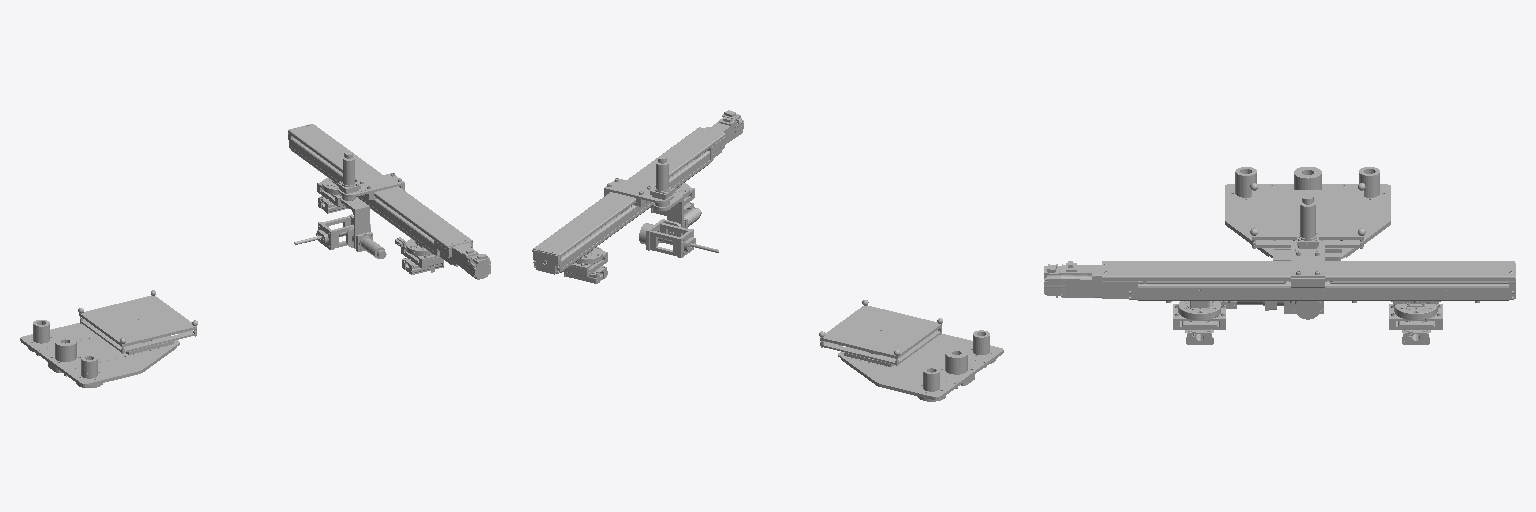
URDF robot description (dual_stage_description):
<?xml version="1.0" encoding="utf-8" ?>
<!-- This URDF was automatically created by SolidWorks to URDF Exporter! Originally created by [author] ([email redacted]) 
     Commit Version: 1.6.0-4-g7f85cfe  Build Version: 1.6.7995.38578
     For more information, please see http://wiki.ros.org/sw_urdf_exporter -->
<robot name="dual_stage_description">
    <link name="bed">
        <inertial>
            <origin xyz="6.09040945453998E-09 7.27432608593759E-09 -0.00731360073835607" rpy="0 0 0" />
            <mass value="0.284380025778967" />
            <inertia ixx="0.000773983570929925" ixy="-6.27405833510982E-13" ixz="-1.64019977303435E-12" iyy="0.000773983570556424" iyz="1.76498150934288E-12" izz="0.00154719283819772" />
        </inertial>
        <visual>
            <origin xyz="0 0 0" rpy="0 0 0" />
            <geometry>
                <mesh filename="package://dual_stage_description/meshes/bed.STL" />
            </geometry>
            <material name="">
                <color rgba="0.752941176470588 0.752941176470588 0.752941176470588 1" />
            </material>
        </visual>
        <collision>
            <origin xyz="0 0 0" rpy="0 0 0" />
            <geometry>
                <mesh filename="package://dual_stage_description/meshes/bed.STL" />
            </geometry>
        </collision>
    </link>
    <link name="bed_pedestal">
        <inertial>
            <origin xyz="-0.0897070911623583 3.86737863955489E-12 -0.0483442587915426" rpy="0 0 0" />
            <mass value="0.950914700878344" />
            <inertia ixx="0.00224638005728345" ixy="-9.24774979710021E-08" ixz="-1.99947656216912E-07" iyy="0.00329692106551918" iyz="-5.38109524922457E-14" izz="0.00541781622140962" />
        </inertial>
        <visual>
            <origin xyz="0 0 0" rpy="0 0 0" />
            <geometry>
                <mesh filename="package://dual_stage_description/meshes/bed_pedestal.STL" />
            </geometry>
            <material name="">
                <color rgba="0.752941176470588 0.752941176470588 0.752941176470588 1" />
            </material>
        </visual>
        <collision>
            <origin xyz="0 0 0" rpy="0 0 0" />
            <geometry>
                <mesh filename="package://dual_stage_description/meshes/bed_pedestal.STL" />
            </geometry>
        </collision>
    </link>
    <joint name="bed_yawing" type="continuous">
        <origin xyz="0 0 0" rpy="0 0 0" />
        <parent link="bed" />
        <child link="bed_pedestal" />
        <axis xyz="0 0 1" />
        <limit effort="10" velocity="1" />
    </joint>
    <link name="base">
        <inertial>
            <origin xyz="0.249736201182231 0.0154094911465468 0.143209988533338" rpy="0 0 0" />
            <mass value="11.4566163845336" />
            <inertia ixx="0.440137783561479" ixy="-2.37852579215089E-06" ixz="7.57382536300556E-06" iyy="0.868722966080528" iyz="2.22713256895934E-06" izz="1.2410445924492" />
        </inertial>
        <visual>
            <origin xyz="0 0 0" rpy="0 0 0" />
            <geometry>
                <mesh filename="package://dual_stage_description/meshes/base.STL" />
            </geometry>
            <material name="">
                <color rgba="0.752941176470588 0.752941176470588 0.752941176470588 1" />
            </material>
        </visual>
        <collision>
            <origin xyz="0 0 0" rpy="0 0 0" />
            <geometry>
                <mesh filename="package://dual_stage_description/meshes/base.STL" />
            </geometry>
        </collision>
    </link>
    <joint name="bed_transfer" type="prismatic">
        <origin xyz="-0.175 0 -0.1733" rpy="0 0 0" />
        <parent link="bed_pedestal" />
        <child link="base" />
        <axis xyz="0 0 -1" />
        <limit lower="0" upper="0.3" effort="10" velocity="1" />
    </joint>
    <link name="tool_horizontal_ts_link">
        <inertial>
            <origin xyz="0.577807644030252 0.0263128793296435 0.0574129856591856" rpy="0 0 0" />
            <mass value="0.337531620669527" />
            <inertia ixx="0.000361538622517226" ixy="4.17355919022315E-07" ixz="1.42582104286315E-06" iyy="7.83906913105639E-05" iyz="2.00465153005125E-06" izz="0.000400186271796109" />
        </inertial>
        <visual>
            <origin xyz="0 0 0" rpy="0 0 0" />
            <geometry>
                <mesh filename="package://dual_stage_description/meshes/tool_horizontal_ts_link.STL" />
            </geometry>
            <material name="">
                <color rgba="0.752941176470588 0.752941176470588 0.752941176470588 1" />
            </material>
        </visual>
        <collision>
            <origin xyz="0 0 0" rpy="0 0 0" />
            <geometry>
                <mesh filename="package://dual_stage_description/meshes/tool_horizontal_ts_link.STL" />
            </geometry>
        </collision>
    </link>
    <joint name="tool_horizontal_transfer" type="prismatic">
        <origin xyz="0.1815 -0.175 0.241" rpy="0 0 0" />
        <parent link="base" />
        <child link="tool_horizontal_ts_link" />
        <axis xyz="-1 0 0" />
        <limit lower="0" upper="0.45" effort="10" velocity="1" />
    </joint>
    <link name="tool_vertical_ts_link">
        <inertial>
            <origin xyz="-0.0552757900843764 0.335936195150674 -0.0455380606826554" rpy="0 0 0" />
            <mass value="0.093839347535343" />
            <inertia ixx="2.45110011186769E-05" ixy="-1.08199935364937E-07" ixz="-3.37401667527307E-09" iyy="6.0688742643268E-05" iyz="2.14524157847651E-09" izz="5.9986302477054E-05" />
        </inertial>
        <visual>
            <origin xyz="0 0 0" rpy="0 0 0" />
            <geometry>
                <mesh filename="package://dual_stage_description/meshes/tool_vertical_ts_link.STL" />
            </geometry>
            <material name="">
                <color rgba="0.752941176470588 0.752941176470588 0.752941176470588 1" />
            </material>
        </visual>
        <collision>
            <origin xyz="0 0 0" rpy="0 0 0" />
            <geometry>
                <mesh filename="package://dual_stage_description/meshes/tool_vertical_ts_link.STL" />
            </geometry>
        </collision>
    </link>
    <joint name="tool_vertical_transfer" type="prismatic">
        <origin xyz="0.578 0.511 0.083" rpy="3.1416 0 0" />
        <parent link="tool_horizontal_ts_link" />
        <child link="tool_vertical_ts_link" />
        <axis xyz="0 1 0" />
        <limit lower="-0.15" upper="0.15" effort="10" velocity="1" />
    </joint>
    <link name="tool_yaw_mount">
        <inertial>
            <origin xyz="-8.37443685508532E-08 0.0552639402746598 0.145631377458447" rpy="0 0 0" />
            <mass value="0.149368121250856" />
            <inertia ixx="0.000110258137457365" ixy="1.07923805055878E-10" ixz="4.75057903162315E-09" iyy="6.85759441300537E-05" iyz="-2.58790167556082E-05" izz="6.79279114838378E-05" />
        </inertial>
        <visual>
            <origin xyz="0 0 0" rpy="0 0 0" />
            <geometry>
                <mesh filename="package://dual_stage_description/meshes/tool_yaw_mount.STL" />
            </geometry>
            <material name="">
                <color rgba="0.752941176470588 0.752941176470588 0.752941176470588 1" />
            </material>
        </visual>
        <collision>
            <origin xyz="0 0 0" rpy="0 0 0" />
            <geometry>
                <mesh filename="package://dual_stage_description/meshes/tool_yaw_mount.STL" />
            </geometry>
        </collision>
    </link>
    <joint name="tool_yawing" type="continuous">
        <origin xyz="-0.077 0.33597 -0.1145" rpy="0 0 0" />
        <parent link="tool_vertical_ts_link" />
        <child link="tool_yaw_mount" />
        <axis xyz="0 0 -1" />
    </joint>
    <link name="tool">
        <inertial>
            <origin xyz="0.000570950086942079 0.138961823918487 -1.17435555850864E-05" rpy="0 0 0" />
            <mass value="0.526893341994097" />
            <inertia ixx="0.000127581224935012" ixy="-1.12335014232223E-05" ixz="-1.82456433276665E-09" iyy="0.000126101829841225" iyz="9.77382097854592E-09" izz="0.000135780154009585" />
        </inertial>
        <visual>
            <origin xyz="0 0 0" rpy="0 0 0" />
            <geometry>
                <mesh filename="package://dual_stage_description/meshes/tool.STL" />
            </geometry>
            <material name="">
                <color rgba="0.752941176470588 0.752941176470588 0.752941176470588 1" />
            </material>
        </visual>
        <collision>
            <origin xyz="0 0 0" rpy="0 0 0" />
            <geometry>
                <mesh filename="package://dual_stage_description/meshes/tool.STL" />
            </geometry>
        </collision>
    </link>
    <joint name="tool_pitching" type="continuous">
        <origin xyz="0 0.1415 0.178" rpy="3.1416 0 0" />
        <parent link="tool_yaw_mount" />
        <child link="tool" />
        <axis xyz="0 -1 0" />
    </joint>
    <transmission name="trans_bed_yawing">
        <type>transmission_interface/SimpleTransmission</type>
        <joint name="bed_yawing">
            <hardwareInterface>hardware_interface/EffortJointInterface</hardwareInterface>
        </joint>
        <actuator name="bed_yawing_motor">
            <hardwareInterface>hardware_interface/EffortJointInterface</hardwareInterface>
            <mechanicalReduction>1</mechanicalReduction>
        </actuator>
    </transmission>
    <transmission name="trans_bed_transfer">
        <type>transmission_interface/SimpleTransmission</type>
        <joint name="bed_transfer">
            <hardwareInterface>hardware_interface/EffortJointInterface</hardwareInterface>
        </joint>
        <actuator name="bed_transfer_motor">
            <hardwareInterface>hardware_interface/EffortJointInterface</hardwareInterface>
            <mechanicalReduction>1</mechanicalReduction>
        </actuator>
    </transmission>
    <transmission name="trans_tool_horizontal_transfer">
        <type>transmission_interface/SimpleTransmission</type>
        <joint name="tool_horizontal_transfer">
            <hardwareInterface>hardware_interface/EffortJointInterface</hardwareInterface>
        </joint>
        <actuator name="tool_horizontal_transfer_motor">
            <hardwareInterface>hardware_interface/EffortJointInterface</hardwareInterface>
            <mechanicalReduction>1</mechanicalReduction>
        </actuator>
    </transmission>
    <transmission name="trans_tool_vertical_transfer">
        <type>transmission_interface/SimpleTransmission</type>
        <joint name="tool_vertical_transfer">
            <hardwareInterface>hardware_interface/EffortJointInterface</hardwareInterface>
        </joint>
        <actuator name="tool_vertical_transfer_motor">
            <hardwareInterface>hardware_interface/EffortJointInterface</hardwareInterface>
            <mechanicalReduction>1</mechanicalReduction>
        </actuator>
    </transmission>
    <transmission name="trans_tool_yawing">
        <type>transmission_interface/SimpleTransmission</type>
        <joint name="tool_yawing">
            <hardwareInterface>hardware_interface/EffortJointInterface</hardwareInterface>
        </joint>
        <actuator name="tool_yawing_motor">
            <hardwareInterface>hardware_interface/EffortJointInterface</hardwareInterface>
            <mechanicalReduction>1</mechanicalReduction>
        </actuator>
    </transmission>
    <transmission name="trans_tool_pitching">
        <type>transmission_interface/SimpleTransmission</type>
        <joint name="tool_pitching">
            <hardwareInterface>hardware_interface/EffortJointInterface</hardwareInterface>
        </joint>
        <actuator name="tool_pitching_motor">
            <hardwareInterface>hardware_interface/EffortJointInterface</hardwareInterface>
            <mechanicalReduction>1</mechanicalReduction>
        </actuator>
    </transmission>
    <gazebo>
        <plugin name="gazebo_ros_control">
            <robotNamespace>/</robotNamespace>
        </plugin>
    </gazebo>
</robot>

--- Facts derived from the render (not from the file) ---
Views: 3 orthographic renders of the robot side by side, from view 1: azimuth 30°, elevation 25°; view 2: azimuth 150°, elevation 25°; view 3: azimuth 270°, elevation 25°.
Robot: dual_stage_description — 7 links, 6 joints (3 continuous, 3 prismatic); root link bed; default pose: all joints at 0.
Visible links, largest first — view 1: tool_horizontal_ts_link, bed_pedestal, bed, tool_vertical_ts_link, tool_yaw_mount, tool; view 2: tool_horizontal_ts_link, bed_pedestal, bed, tool, tool_vertical_ts_link, tool_yaw_mount; view 3: tool_horizontal_ts_link, bed, bed_pedestal, tool_vertical_ts_link, tool.
Link boxes in pixels (x1,y1,x2,y2): tool_horizontal_ts_link: (288,124,490,279); bed_pedestal: (20,320,179,387); bed: (78,290,197,353); tool_vertical_ts_link: (337,151,404,207); tool_yaw_mount: (340,196,386,258); tool: (294,214,370,249); tool_horizontal_ts_link: (532,110,743,283); bed_pedestal: (838,330,1003,401); bed: (819,300,942,365); tool: (639,219,718,257); tool_vertical_ts_link: (604,156,674,213); tool_yaw_mount: (654,193,701,228); tool_horizontal_ts_link: (1044,261,1515,344); bed: (1250,183,1365,248); bed_pedestal: (1225,167,1390,260); tool_vertical_ts_link: (1284,195,1332,287); tool: (1284,301,1323,319).
Size in the robot's own frame: 0.8375 by 0.7624 by 0.3445 metres.
Meshes: 7 distinct files referenced, 6 mesh visuals loaded (6 binary STL); not drawn: 1 (reference not matched to a file when rendering).